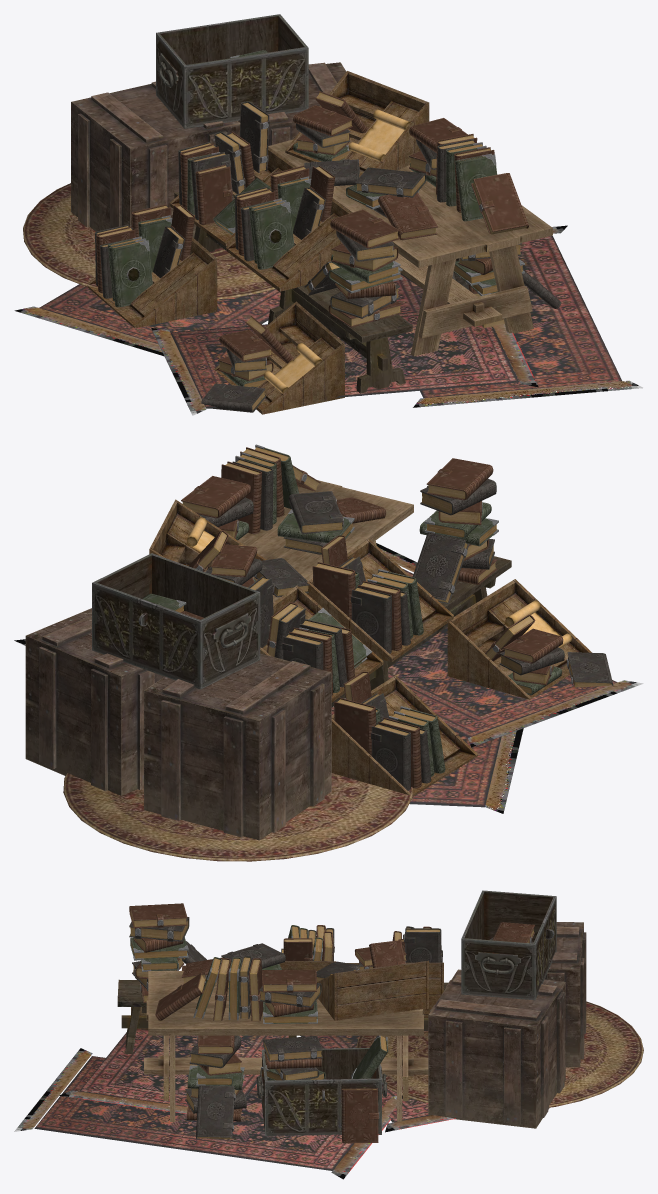
Rendered from SHO_Stand_Book_A-transformed.glb.
The picture shows the model from 3 angles, top to bottom: view 1: azimuth 30°, elevation 25°; view 2: azimuth 150°, elevation 25°; view 3: azimuth 270°, elevation 25°; orthographic projection. The views are drawn at different scales.
Visible parts, largest first — view 1: default; view 2: default; view 3: default.
Boxes of the visible parts, <box> form: default: <box>14,14,643,415</box>; default: <box>14,444,643,861</box>; default: <box>14,890,643,1179</box>.
Bounding box in the file's own units: 2.86 × 0.9722 × 3.49.
9 materials, 9 textured.
